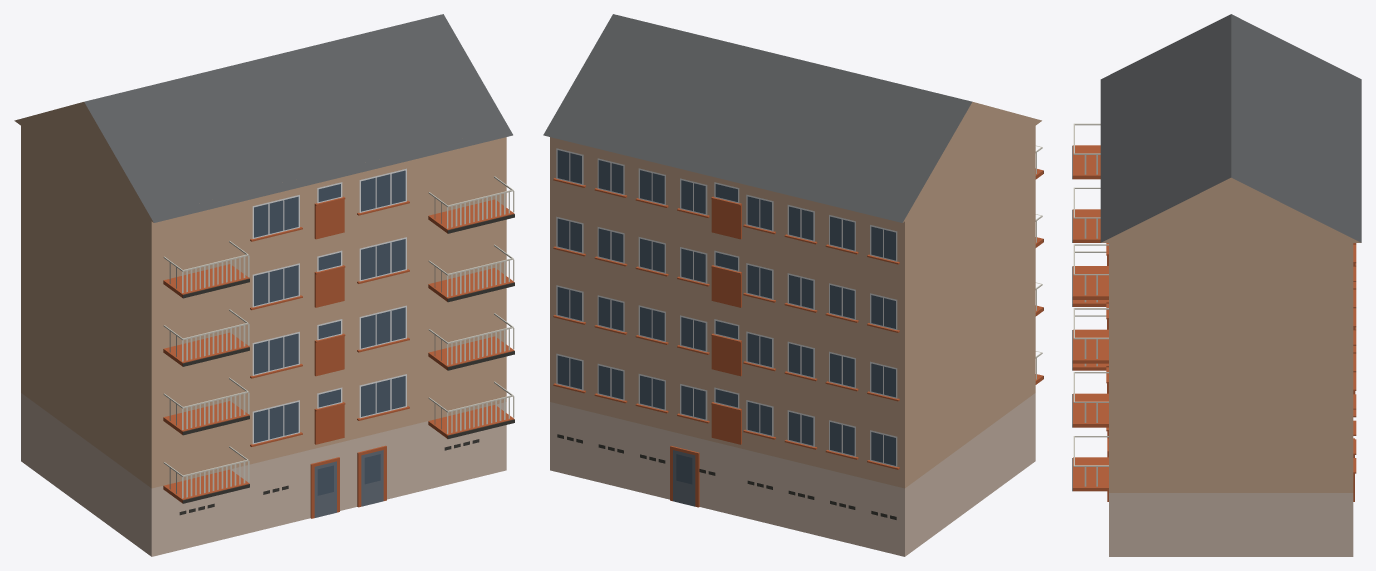
The model's file is nw-peach-render-balcony-front__peach-orange__5__gable__long__solid.glb.
The picture shows the model from 3 angles, left to right: view 1: azimuth 30°, elevation 25°; view 2: azimuth 150°, elevation 25°; view 3: azimuth 270°, elevation 25°; orthographic projection. The views are drawn at different scales.
Parts seen in each view (by area): view 1: nw-peach-render-balcony-front__peach-orange__5__gable__long_; view 2: nw-peach-render-balcony-front__peach-orange__5__gable__long_; view 3: nw-peach-render-balcony-front__peach-orange__5__gable__long_.
Boxes of the visible parts, left/top/right/bottom form: nw-peach-render-balcony-front__peach-orange__5__gable__long_: left=14, top=14, right=514, bottom=556; nw-peach-render-balcony-front__peach-orange__5__gable__long_: left=543, top=14, right=1043, bottom=556; nw-peach-render-balcony-front__peach-orange__5__gable__long_: left=1072, top=14, right=1361, bottom=556.
Size of the model in its own units: 16.1 by 17.46 by 12.04.
